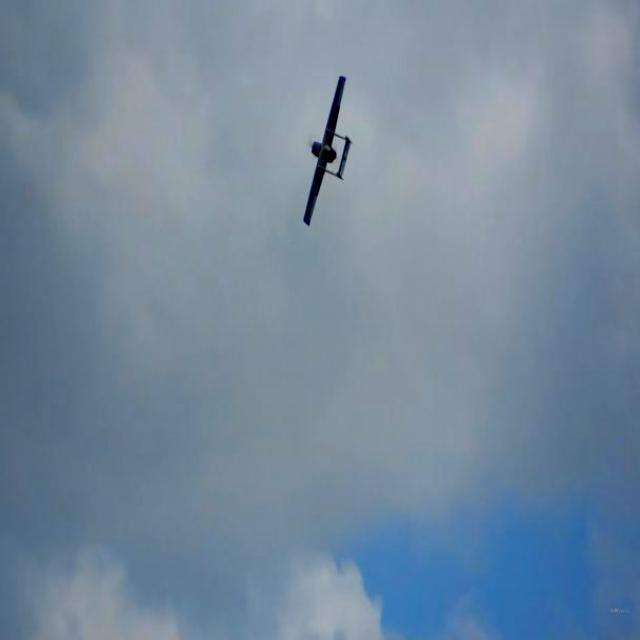iha: (316, 70, 330, 232)
